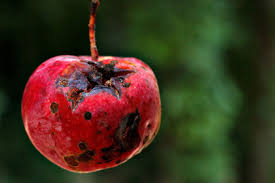damaged_apple: (20, 54, 160, 171)
